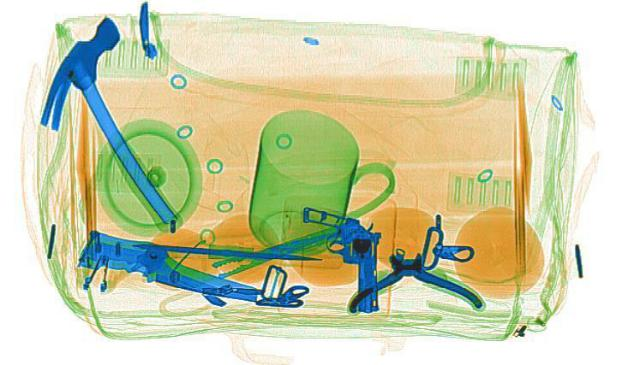Gun: (301, 206, 377, 311)
Pliers: (346, 250, 480, 309)
